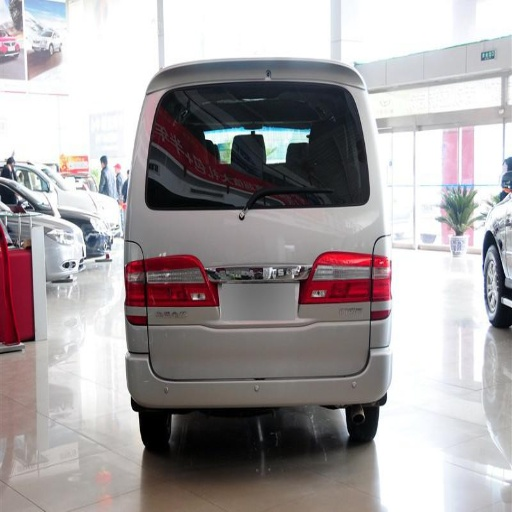back_bumper: (124, 318, 390, 416)
trunk: (147, 209, 371, 371)
